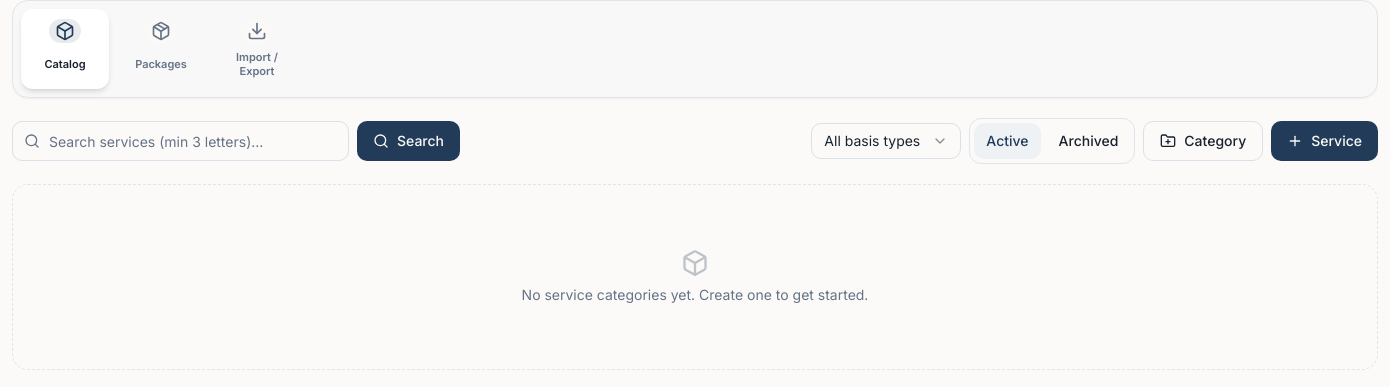
ServicesPanel — section tile menu (Slice 11E) › switches the rendered section when another tile is selected
The image size is (1390, 387).
Check: the text "Import services" is not shown
Press the mouse on the tab "Import / Export" at (257, 49), box [213,9,301,89]
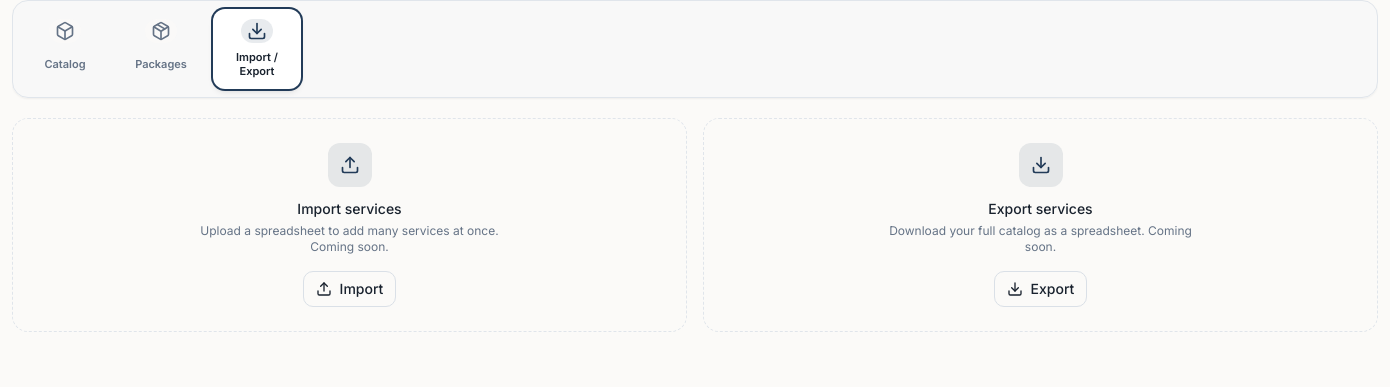
Check: the text "Import services" is shown, box [297,200,402,217]
Check: the text "Export services" is shown, box [988,200,1093,217]
